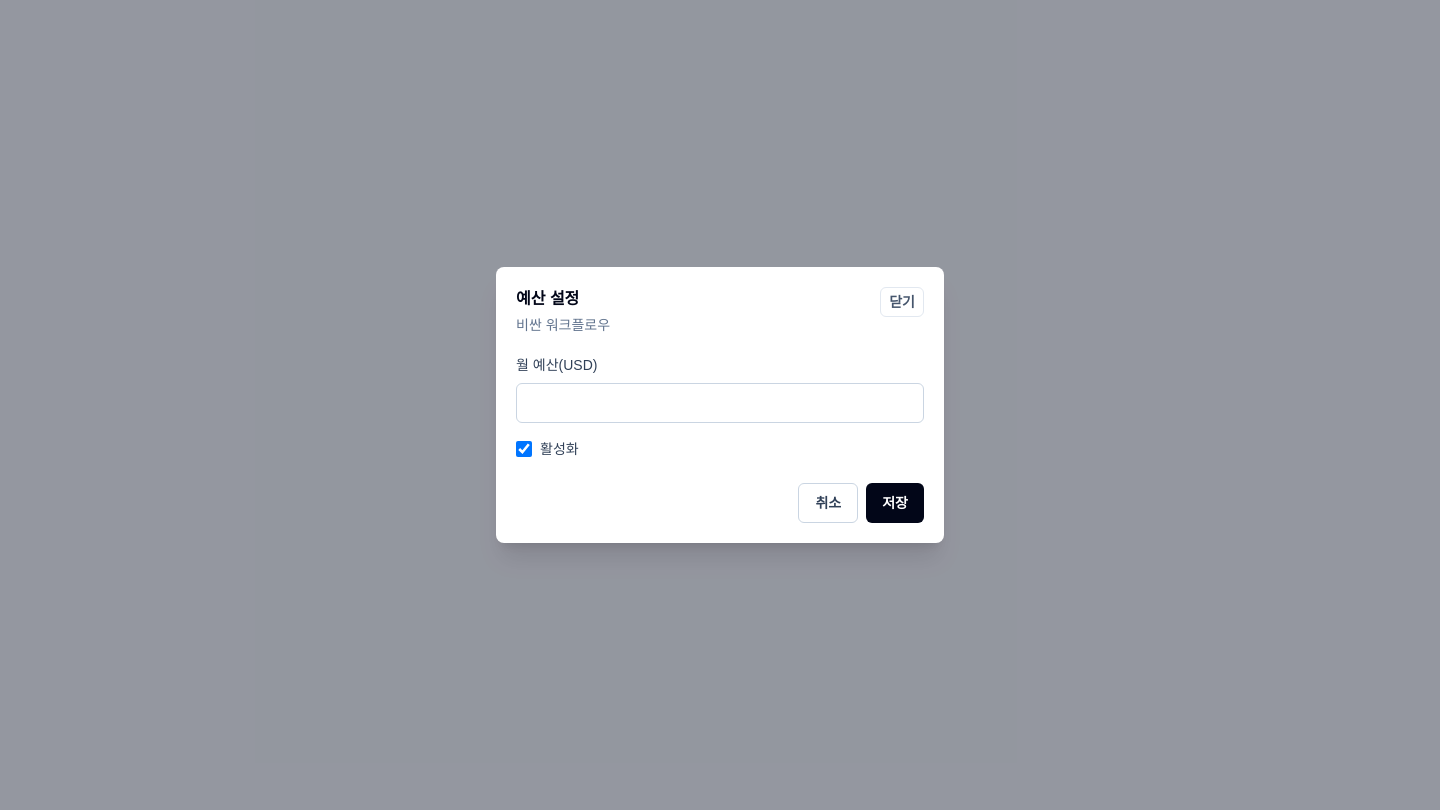
Test: BudgetEditModal 검증/저장 › 422이면 필드 오류 안내를 표시한다
Step 1. Type "100" into the number field labelled "월 예산(USD)" → (720, 403), box [516, 383, 924, 423]
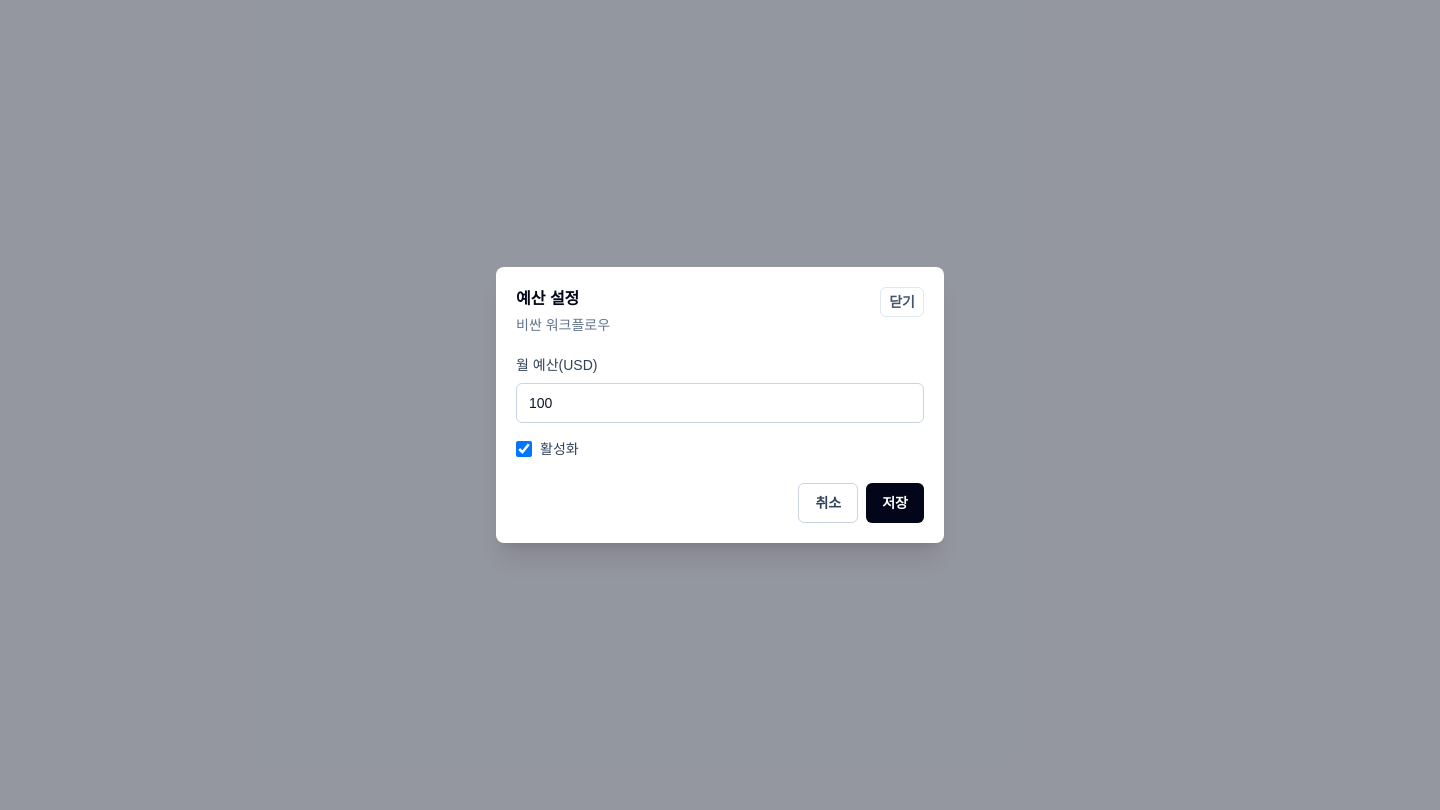
Step 2. Click the button "저장" → click(895, 503), box [866, 483, 924, 523]
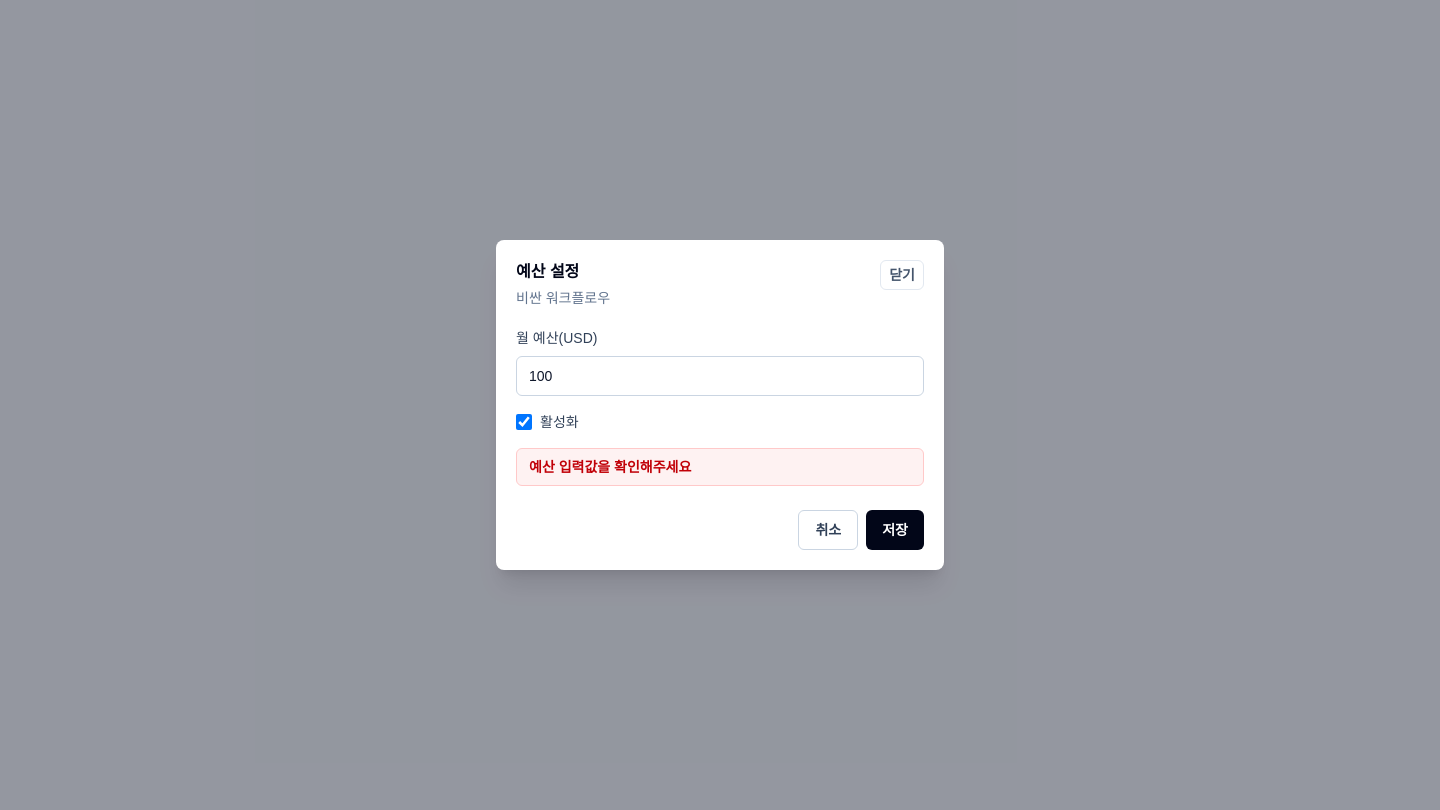
Now the text "예산 입력값을 확인해주세요" is shown, box [516, 448, 924, 486]
